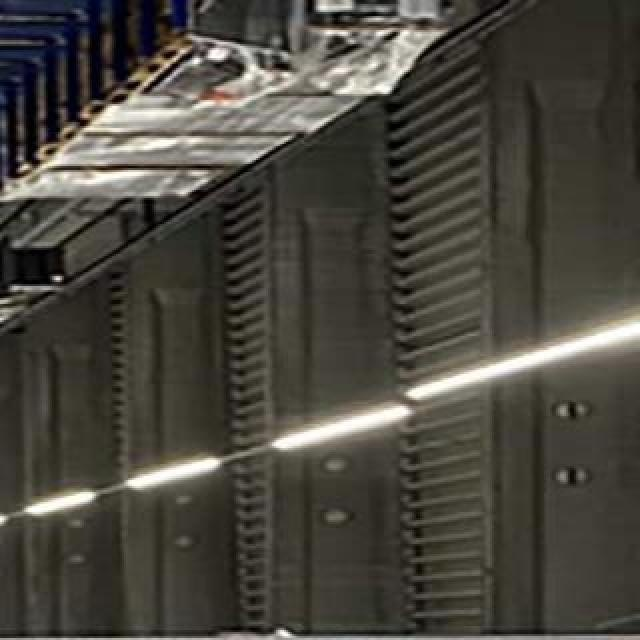fluorescent tube: (404, 305, 636, 403), (271, 398, 429, 462), (120, 453, 242, 496), (18, 483, 102, 521), (0, 506, 14, 540)
